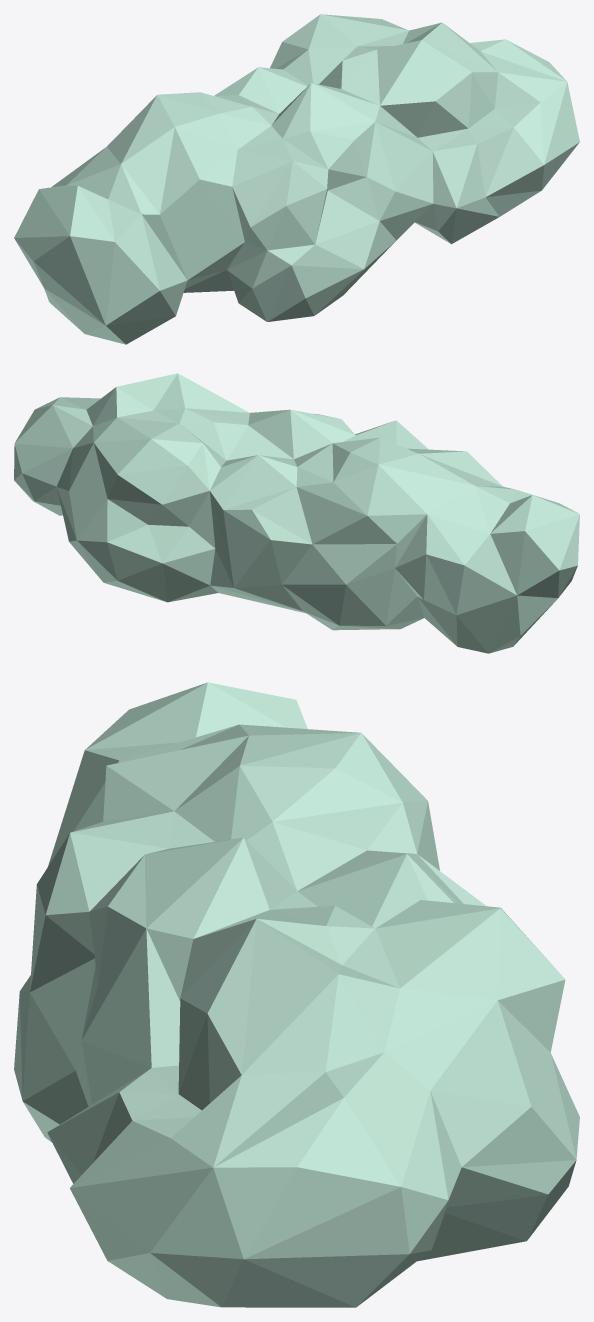
Rendered from SM_cloud_04.fbx.
3 renders of one model, top to bottom at view 1: azimuth 30°, elevation 25°; view 2: azimuth 150°, elevation 25°; view 3: azimuth 270°, elevation 25°, orthographic. The views are drawn at different scales.
Visible parts, largest first — view 1: cloud_04; view 2: cloud_04; view 3: cloud_04.
Part boxes in pixels (<box>): cloud_04: <box>14,14,579,344</box>; cloud_04: <box>14,373,579,653</box>; cloud_04: <box>14,682,579,1307</box>.
Bounding box in the file's own units: 10329 × 3684 × 4853.
